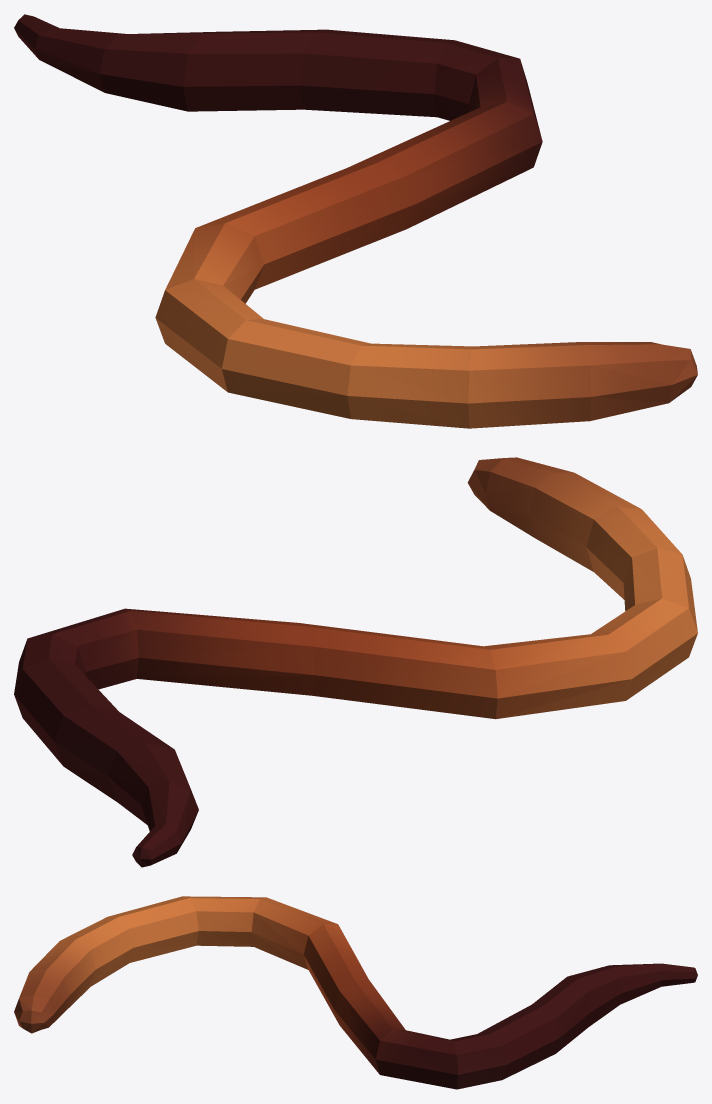
File: e7bfa070-26c2-43cf-ac5f-0311fc2e41d4.glb
The picture shows the model from 3 angles, top to bottom: view 1: azimuth 30°, elevation 25°; view 2: azimuth 150°, elevation 25°; view 3: azimuth 270°, elevation 25°; orthographic projection. The views are drawn at different scales.
Visible parts, largest first — view 1: Node; view 2: Node; view 3: Node.
Part boxes in pixels (x1,y1,x2,y2): Node: [14, 14, 697, 428]; Node: [14, 457, 697, 867]; Node: [14, 896, 697, 1089].
Size of the model in its own units: 7.65 by 1.06 by 13.5.
Materials: 1 (1 with a texture image).
